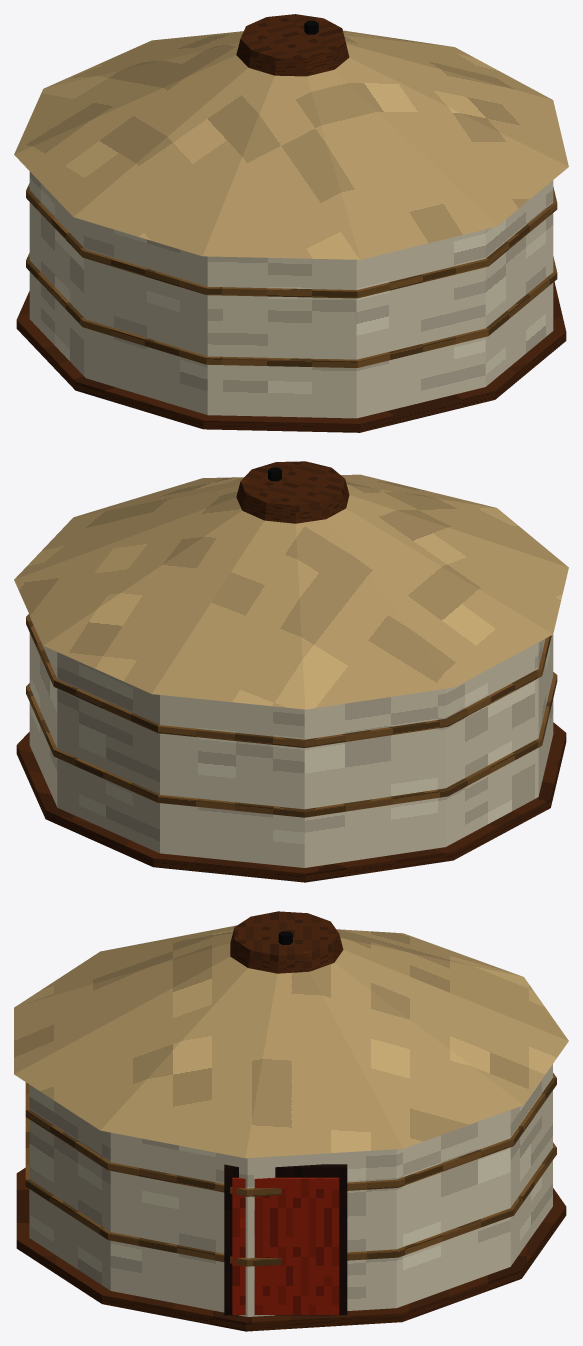
The model's file is yurta_comun.glb.
3 views of the same model, one above another, from view 1: azimuth 30°, elevation 25°; view 2: azimuth 150°, elevation 25°; view 3: azimuth 270°, elevation 25° (orthographic).
Visible parts, largest first — view 1: techo, pared, cuerdas, plataforma, corona; view 2: techo, pared, cuerdas, plataforma, corona; view 3: techo, pared, puerta, plataforma, cuerdas, corona, marco.
Part boxes in pixels (<box>): techo: <box>14,30,568,259</box>; pared: <box>29,171,553,418</box>; cuerdas: <box>26,183,557,367</box>; plataforma: <box>16,281,566,432</box>; corona: <box>236,14,349,76</box>; techo: <box>14,474,568,709</box>; pared: <box>29,615,553,867</box>; cuerdas: <box>26,614,557,817</box>; plataforma: <box>16,722,566,882</box>; corona: <box>236,461,349,523</box>; techo: <box>14,925,568,1158</box>; pared: <box>29,1064,552,1316</box>; puerta: <box>232,1177,339,1314</box>; plataforma: <box>16,1167,566,1331</box>; cuerdas: <box>25,1073,556,1266</box>; corona: <box>230,911,343,973</box>; marco: <box>224,1164,347,1315</box>.
Bounding box in the file's own units: 4.5 × 2.6 × 4.5.
Materials: 1 (1 with a texture image).
